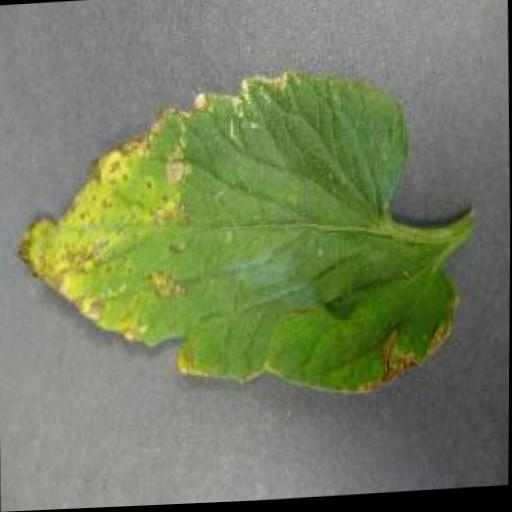Bacterial Spot: (8, 60, 466, 412)
